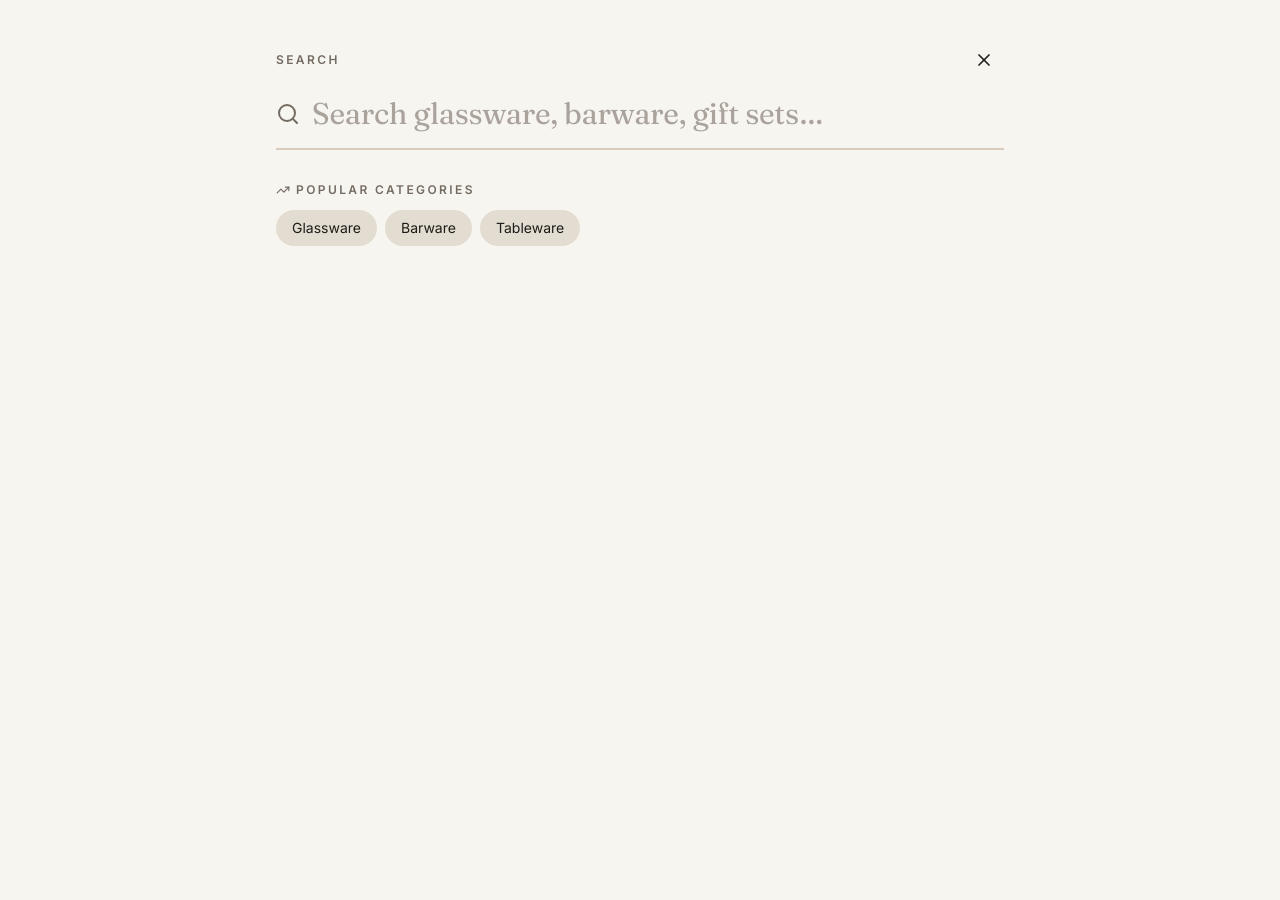
Test: SearchModal (search component) › shows matching results as the user types a known product name
Type "coupe" into the dropdown at (658, 114), box x1=312 y1=96 x2=1004 y2=132
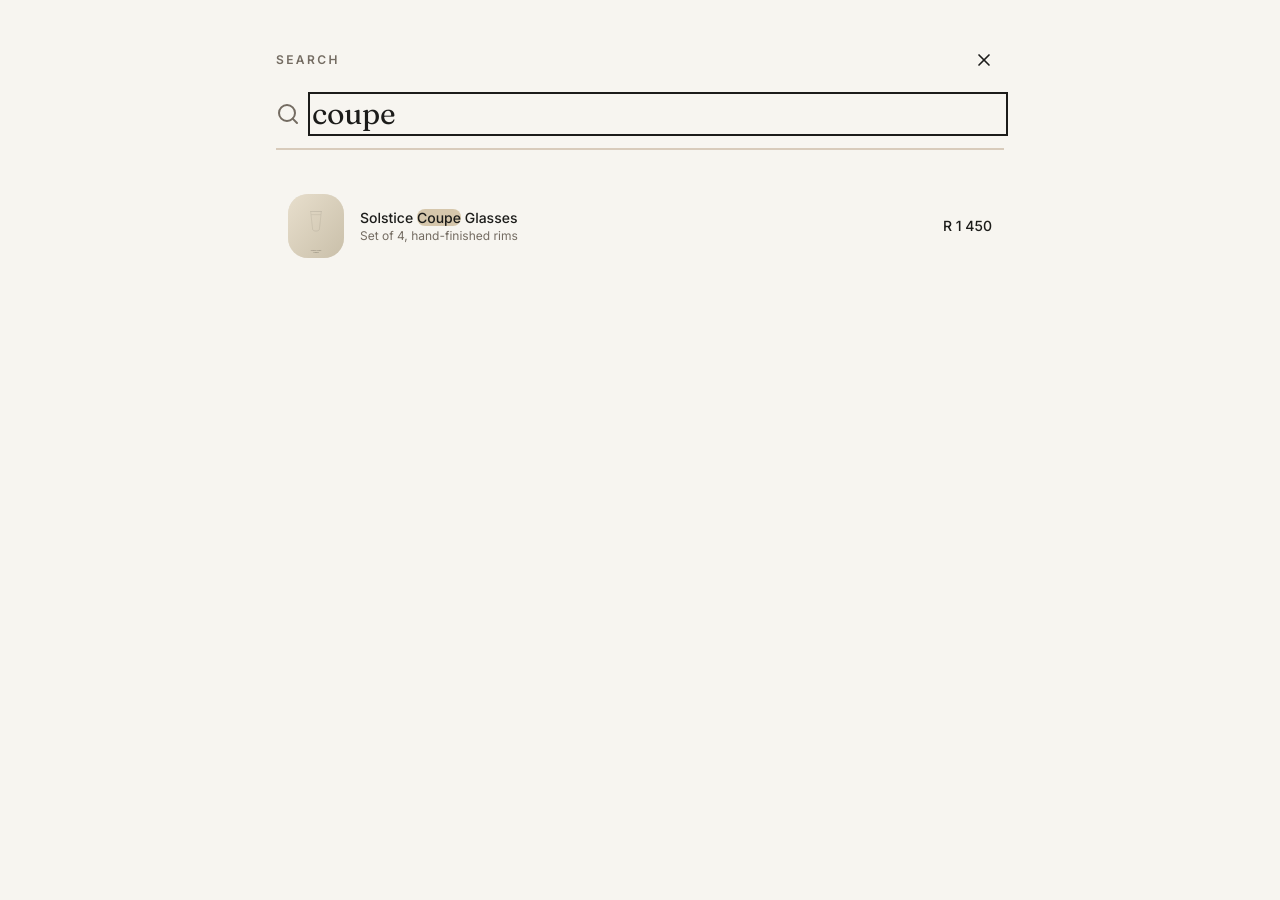
Expected: the list named "Search results" is shown, x1=276 y1=182 x2=1004 y2=270
Expected: the text "Solstice Coupe Glasses" is shown, x1=360 y1=209 x2=518 y2=226
